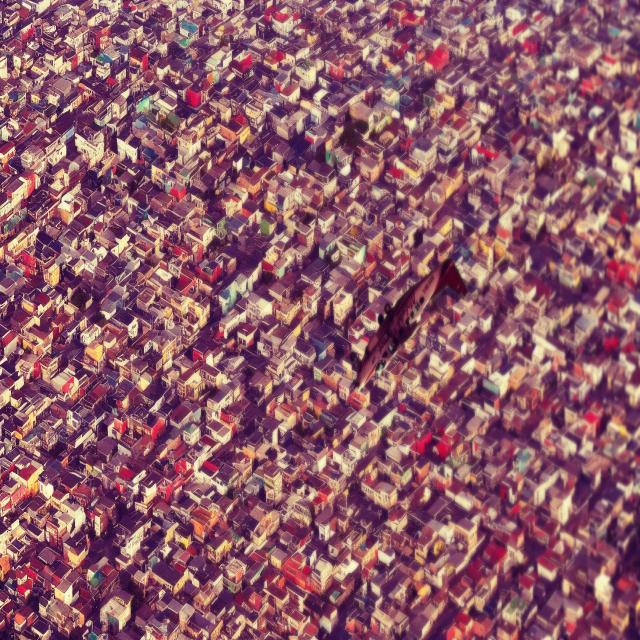airplane: (353, 256, 468, 390)
